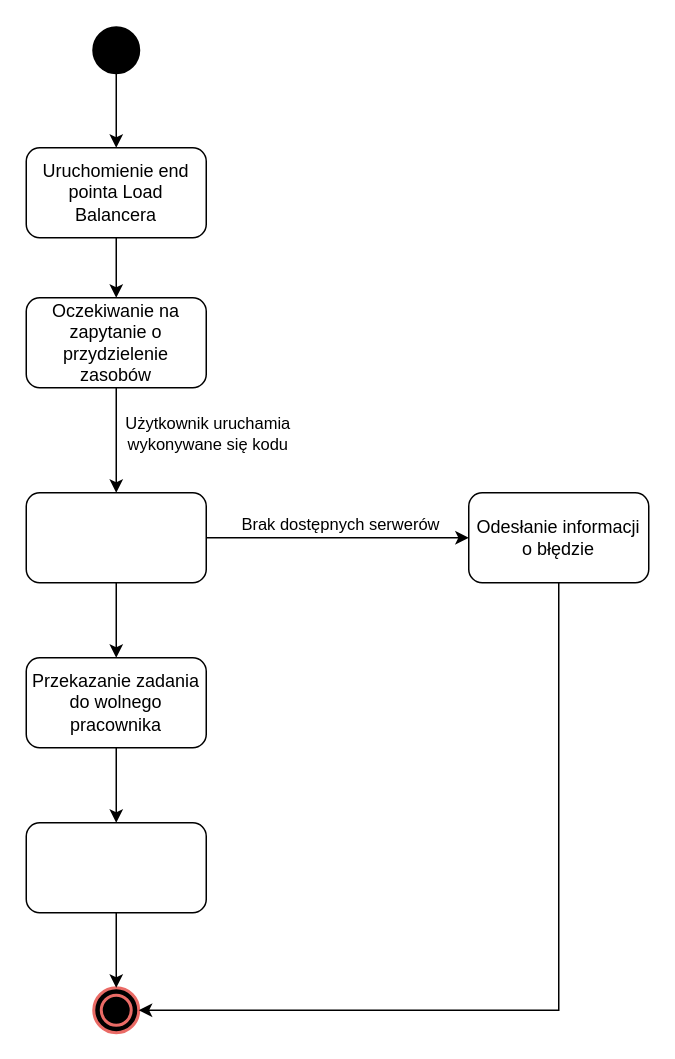
This 675x1059 diagram has some shape labels left out. Each missing label, with the centre of its shape:
"Pobranie listy dostępnych serwerów" belongs at (x=115, y=537).
"Zwrócenie statusu" belongs at (x=115, y=867).
